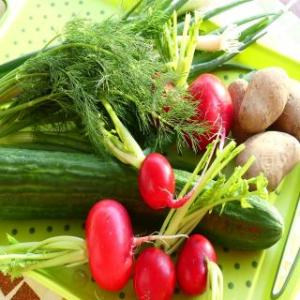cucumber: (0, 147, 140, 221)
potato: (240, 59, 286, 125), (242, 134, 298, 176)
